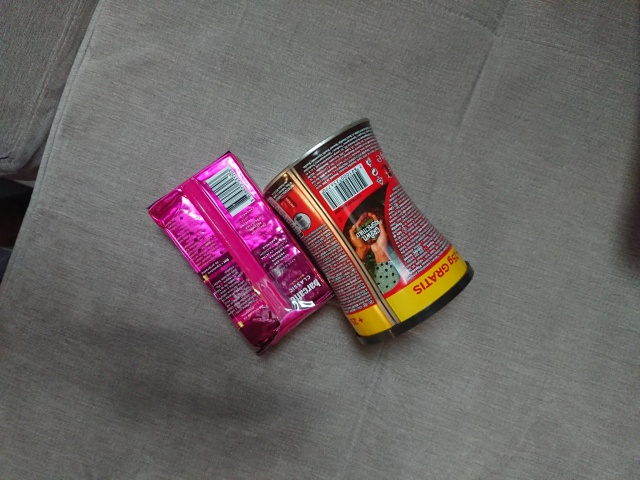Barcaffe Classic Original 225g: (143, 148, 340, 360)
Nescafe Classic 225g: (258, 115, 477, 349)
